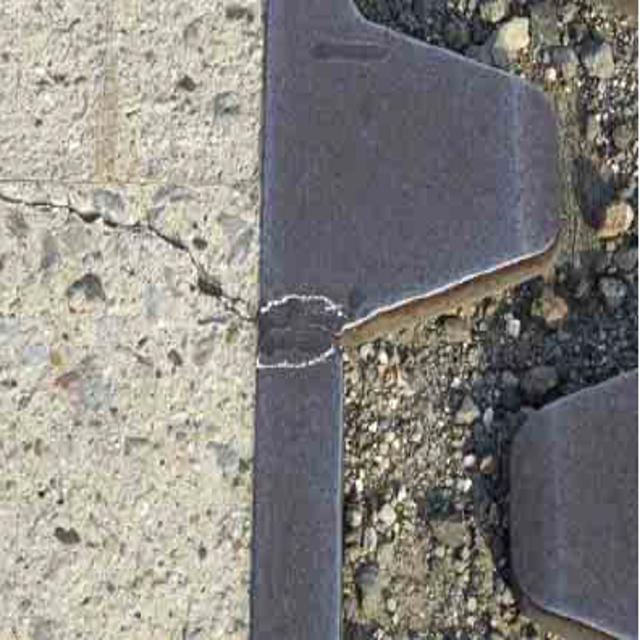crack: (7, 179, 259, 350)
